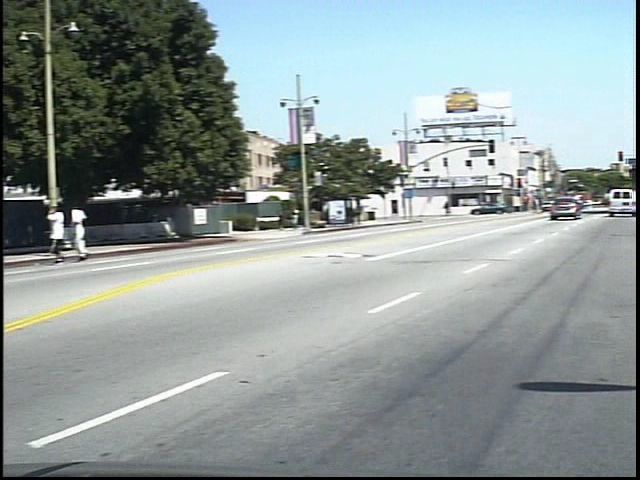person: (81, 202, 106, 264), (60, 202, 85, 264), (298, 205, 313, 234), (286, 207, 300, 233), (454, 198, 465, 219)
